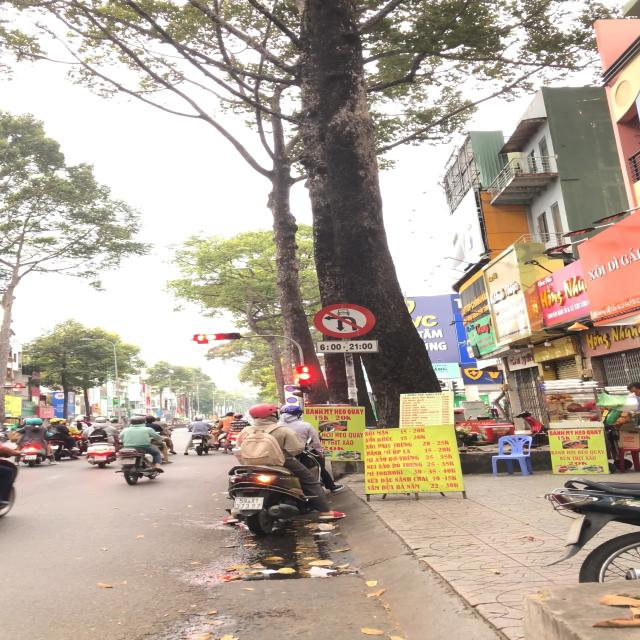Bien bao cam oto re trai va quay dau xe: (311, 302, 379, 340)
